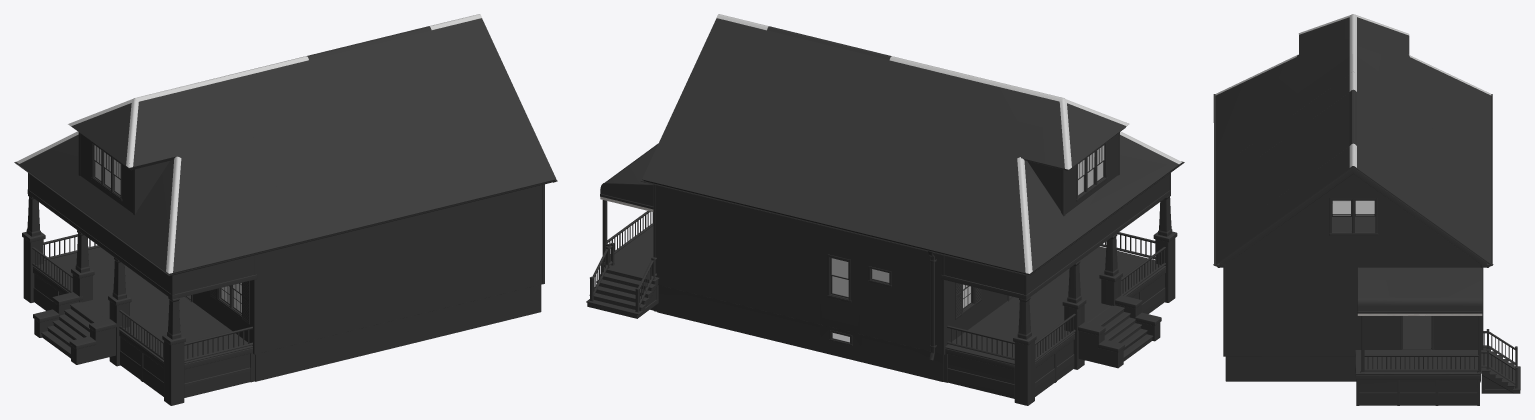
Rendered from SM_CompleteHouse_02.fbx.
The picture shows the model from 3 angles, left to right: view 1: azimuth 30°, elevation 25°; view 2: azimuth 150°, elevation 25°; view 3: azimuth 270°, elevation 25°; orthographic projection. The views are drawn at different scales.
Parts seen in each view (by area): view 1: SM_House_16_LOD0; view 2: SM_House_16_LOD0; view 3: SM_House_16_LOD0.
Boxes of the visible parts, bbox=[...] form: SM_House_16_LOD0: bbox=[14, 14, 557, 405]; SM_House_16_LOD0: bbox=[586, 14, 1184, 405]; SM_House_16_LOD0: bbox=[1213, 14, 1520, 405].
Bounding box in the file's own units: 1612 × 1011 × 801.
